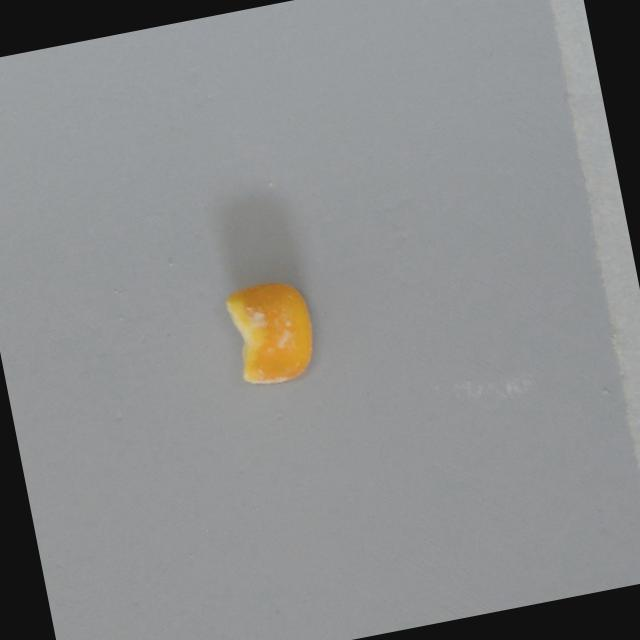dañado: (216, 267, 328, 393)
